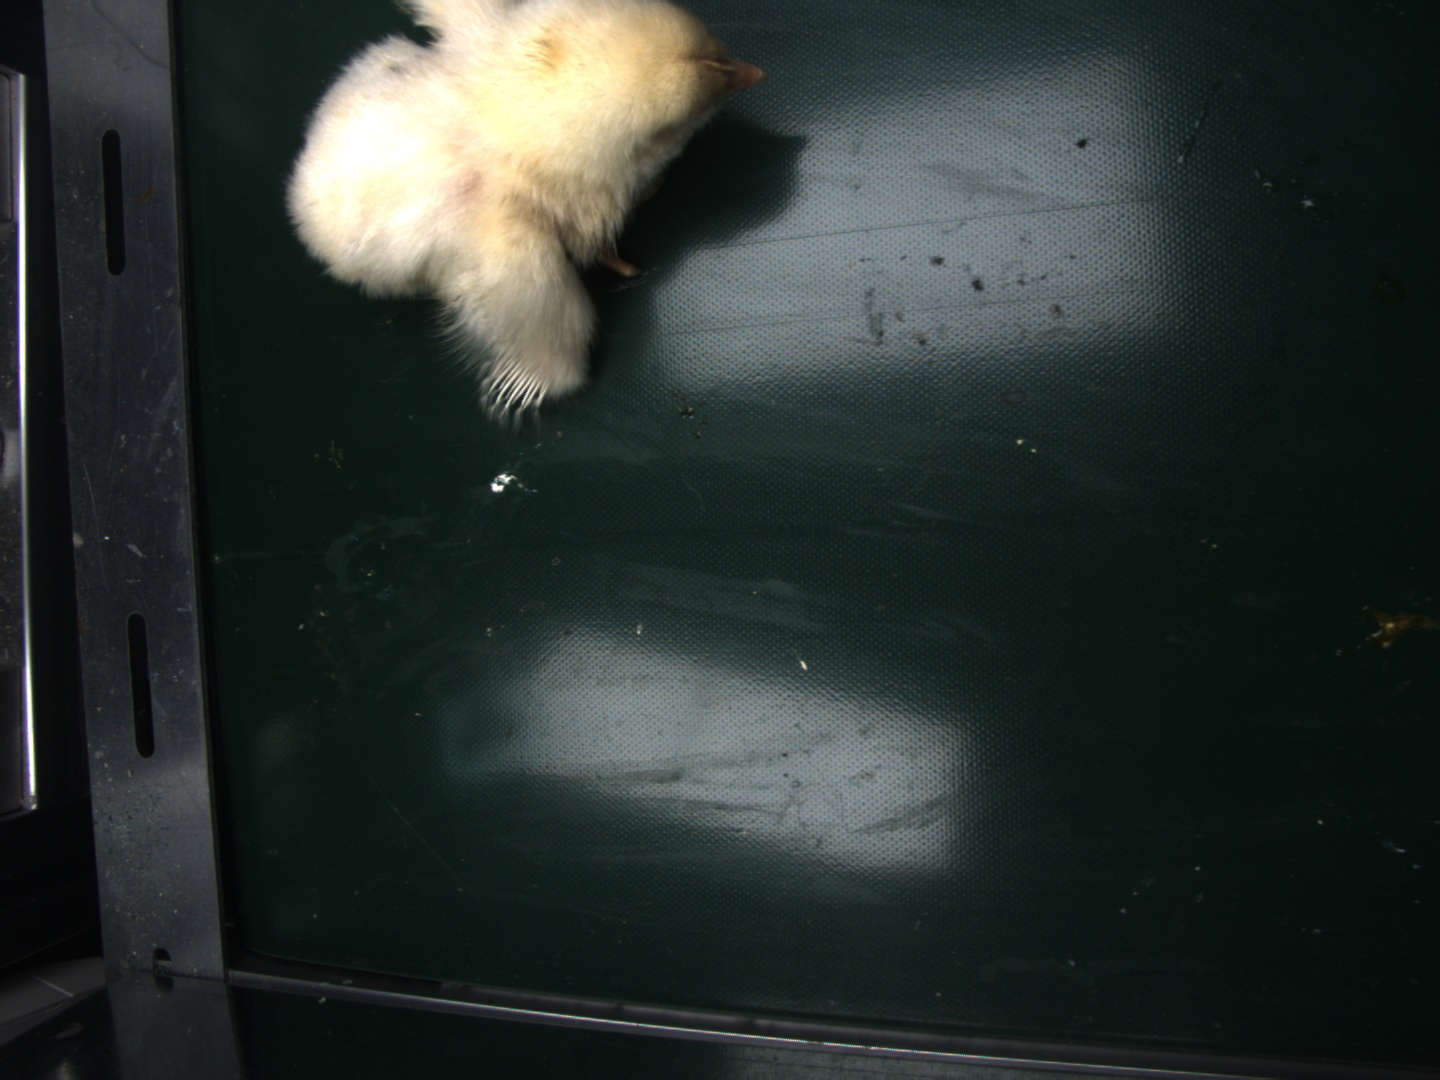male: (486, 351, 549, 407)
